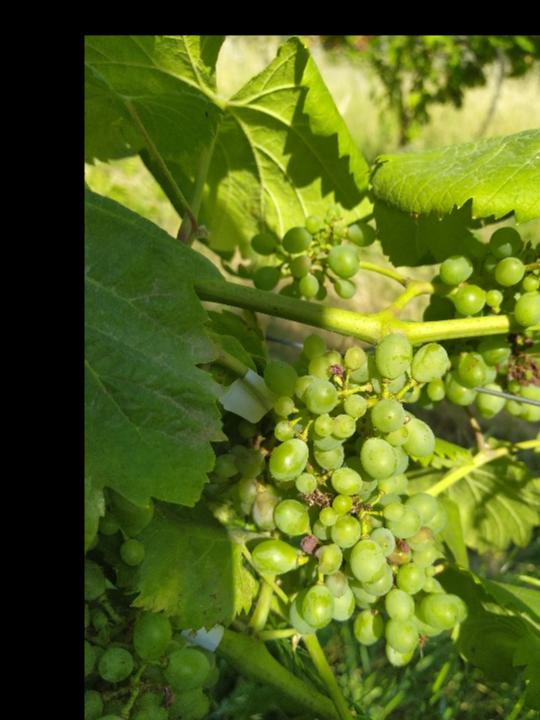grape: (216, 331, 474, 669), (421, 225, 540, 423), (248, 205, 378, 300)
